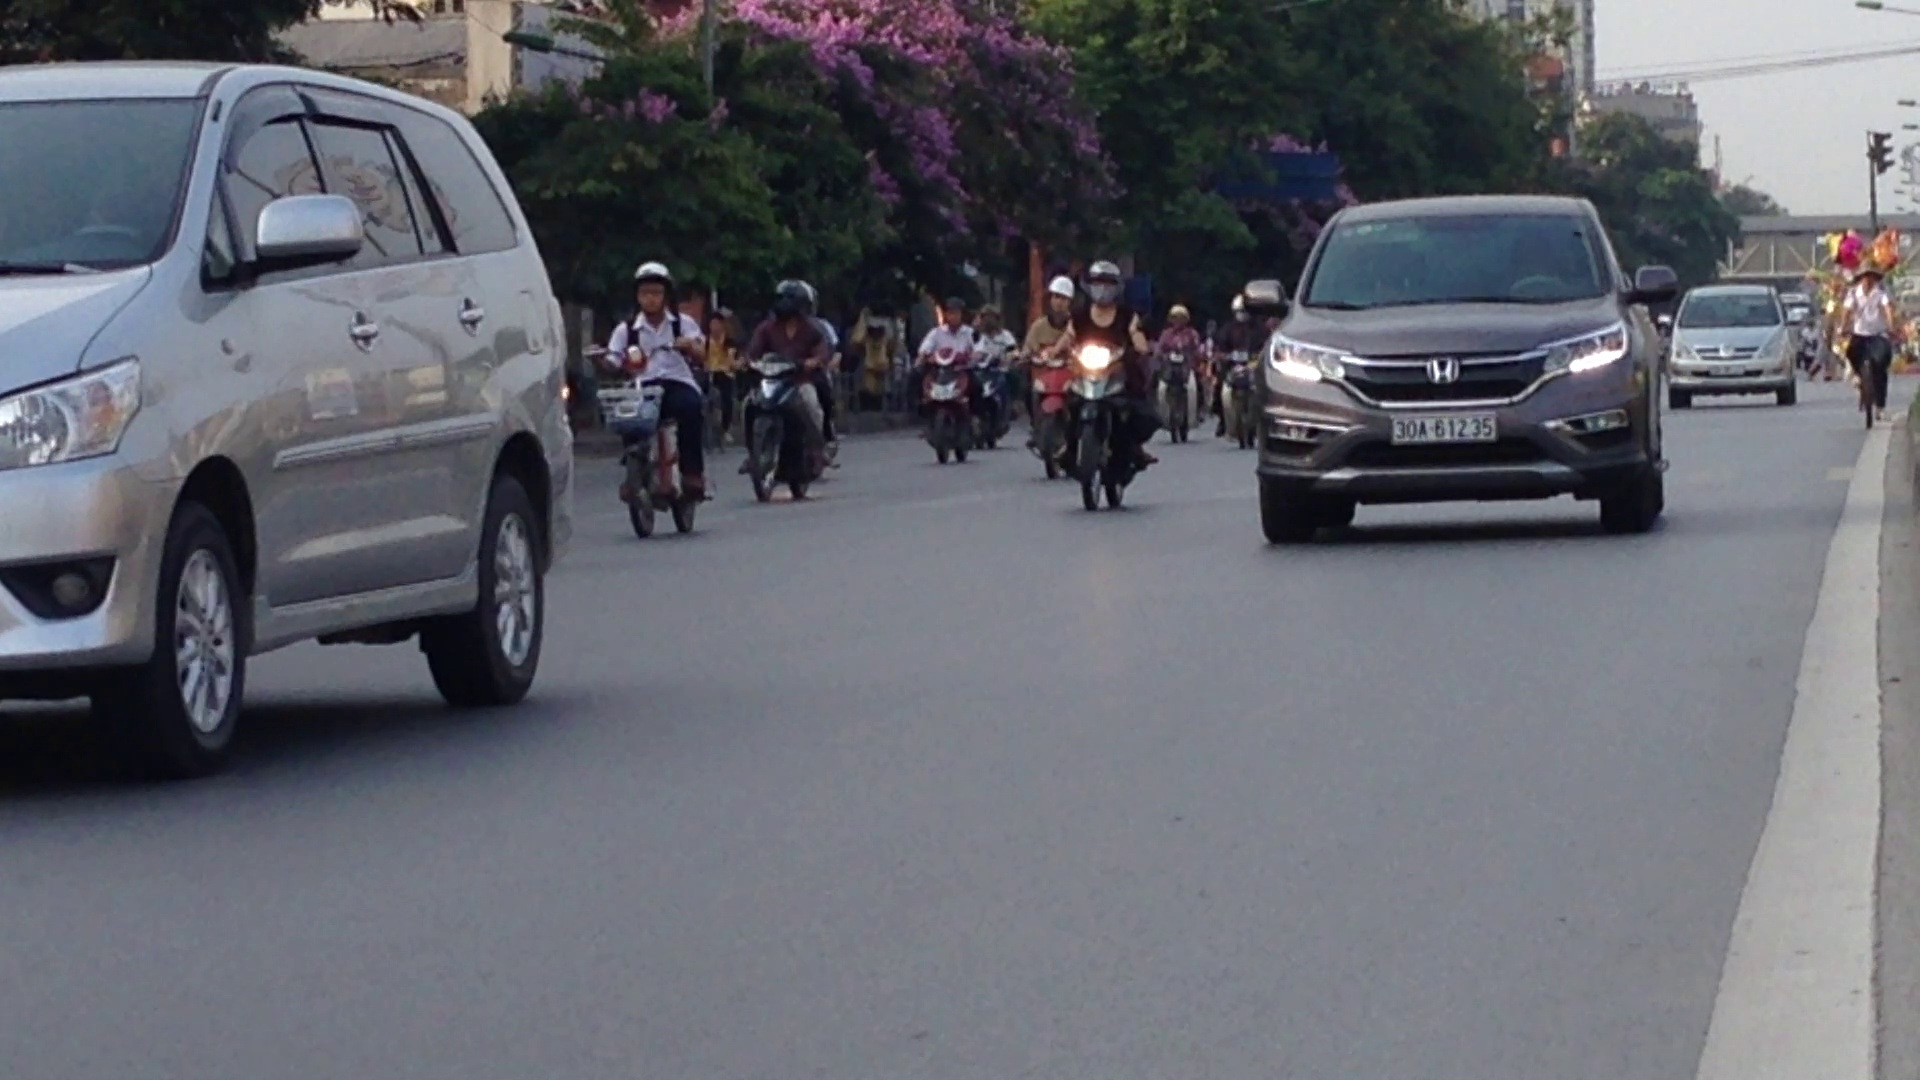person: (1386, 409, 1501, 445)
